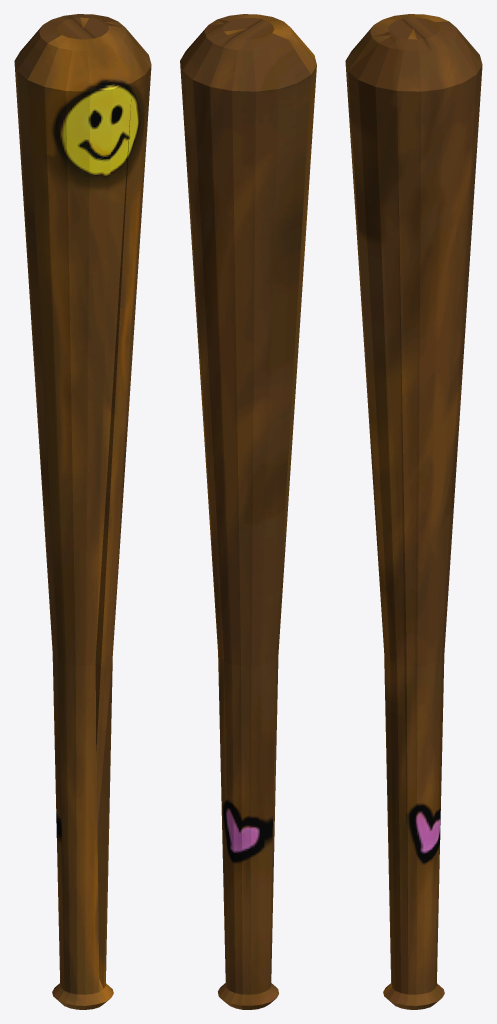
File: Bat.glb
The picture shows the model from 3 angles, left to right: view 1: azimuth 90°, elevation 25°; view 2: azimuth 210°, elevation 25°; view 3: azimuth 270°, elevation 25°; orthographic projection.
Parts seen in each view (by area): view 1: Bat; view 2: Bat; view 3: Bat.
Part boxes in pixels (box(x1,y1,x2,y2)): Bat: box(14, 14, 151, 1009); Bat: box(180, 14, 316, 1009); Bat: box(345, 14, 482, 1009).
Size of the model in its own units: 11.5 by 90.49 by 11.57.
Materials: 1 (1 with a texture image).
